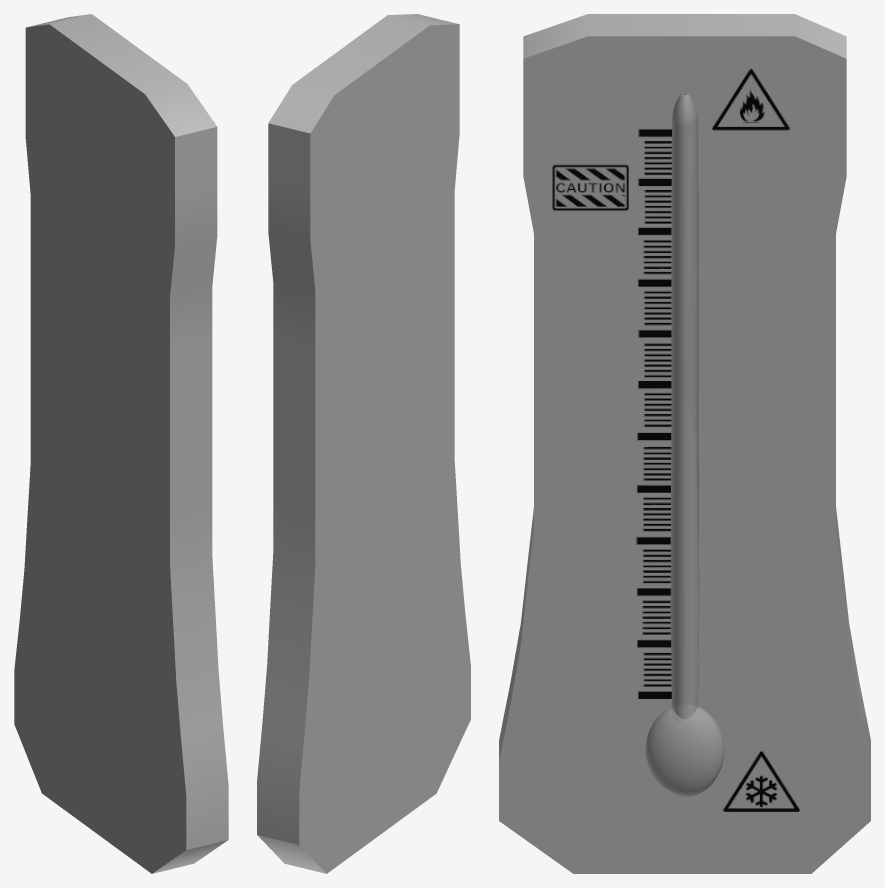
File: Thermometer.fbx
3 views of the same model, side by side, from view 1: azimuth 30°, elevation 25°; view 2: azimuth 150°, elevation 25°; view 3: azimuth 270°, elevation 25° (orthographic). The views are drawn at different scales.
Parts seen in each view (by area): view 1: pCube2; view 2: pCube2; view 3: pCube2.
Part boxes in pixels (x1,y1,x2,y2): pCube2: [14, 14, 228, 873]; pCube2: [257, 14, 470, 873]; pCube2: [499, 14, 870, 873].
Size of the model in its own units: 2.09 by 23.45 by 9.44.
Materials: 2 (1 with a texture image).
